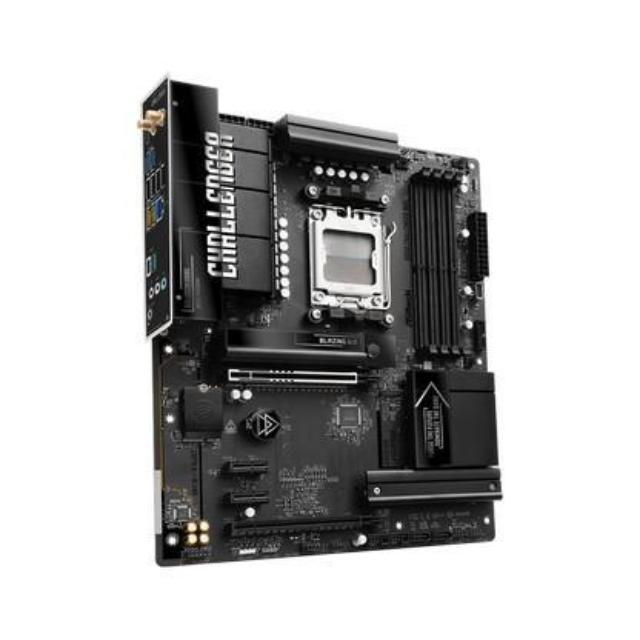Mainboard: (114, 67, 518, 565)
